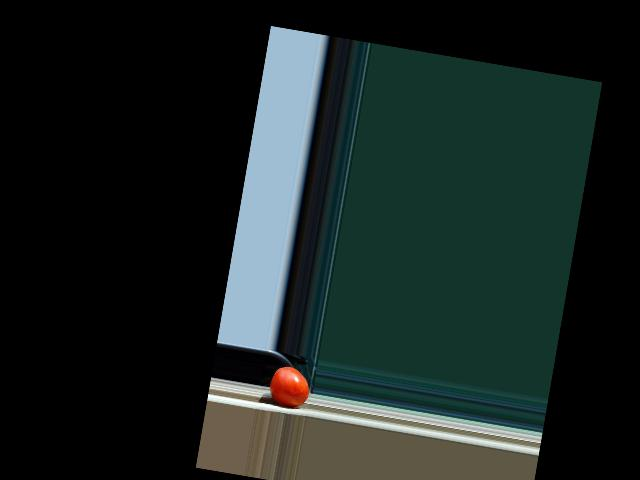tomato: (267, 363, 312, 409)
